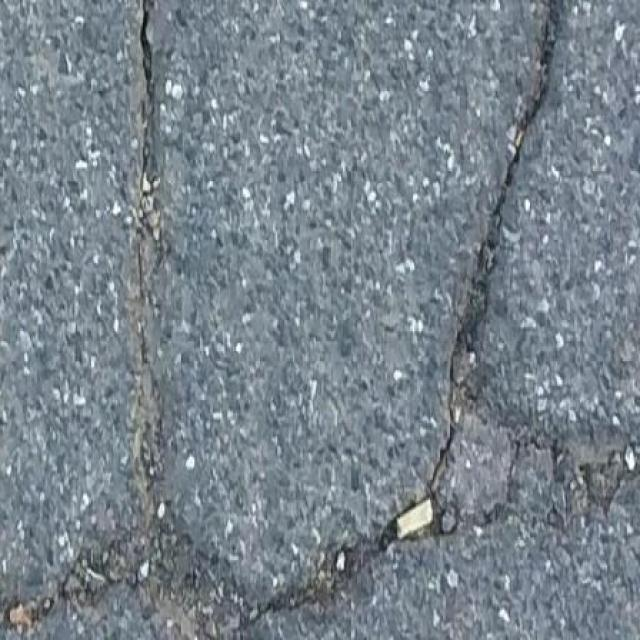Crack: (428, 0, 640, 536), (0, 522, 266, 640), (266, 496, 456, 612), (135, 0, 160, 341), (266, 538, 378, 612), (144, 386, 160, 509)
